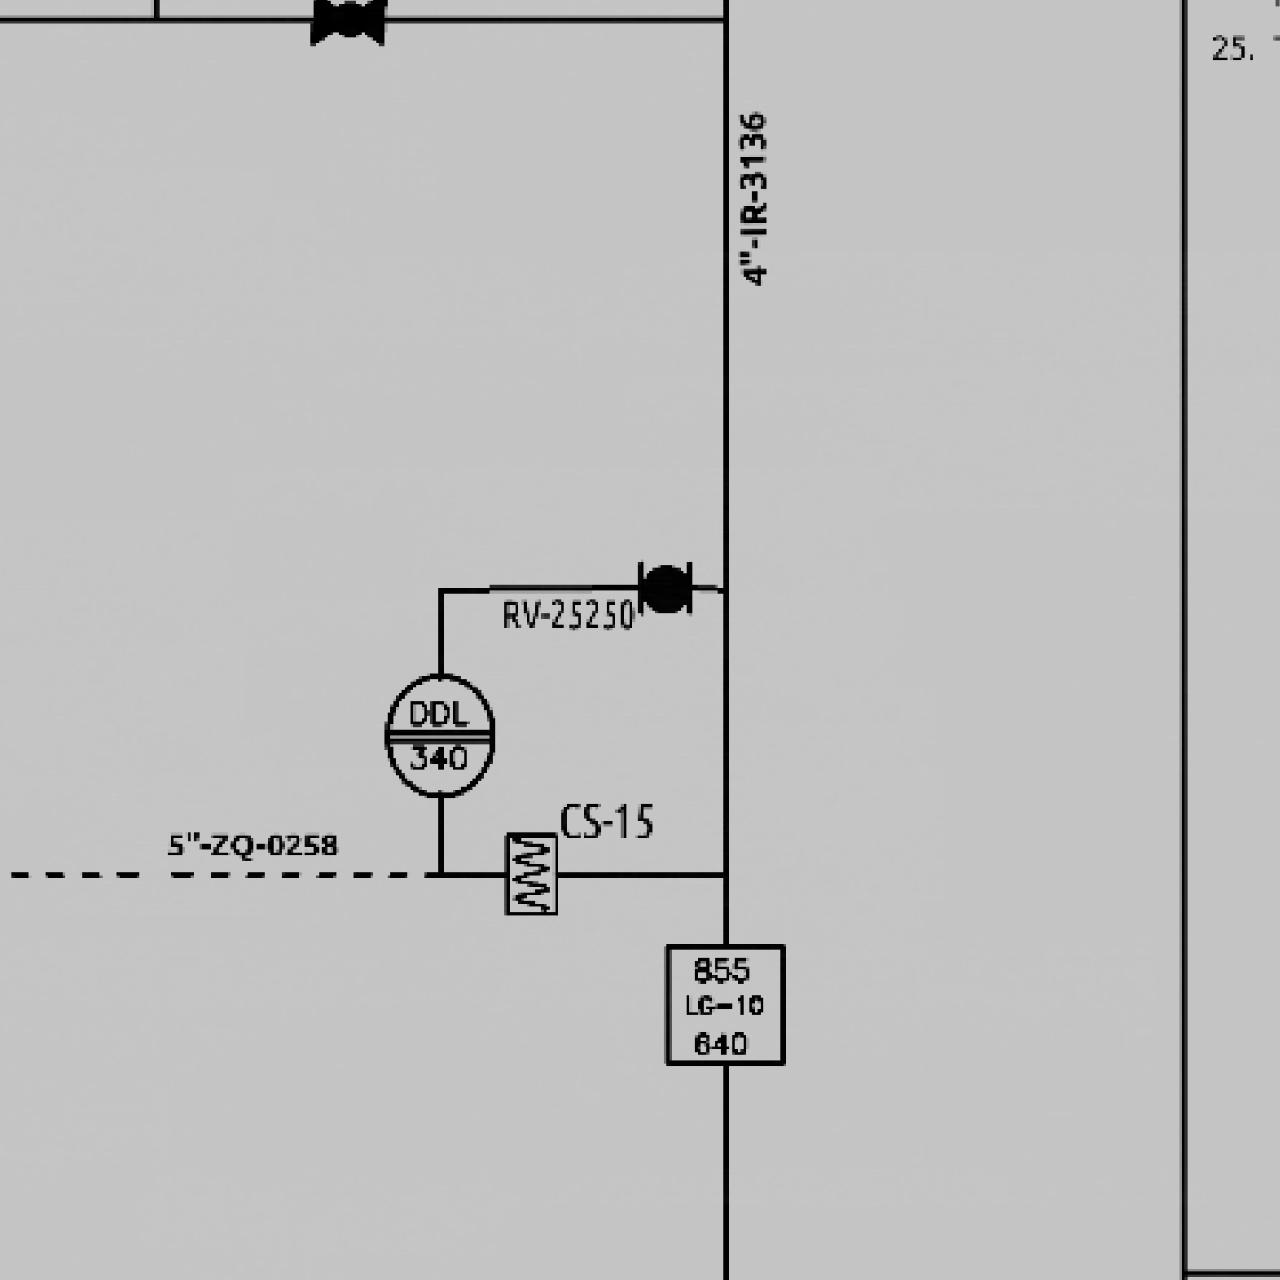Control-Panel: (373, 668, 506, 802)
